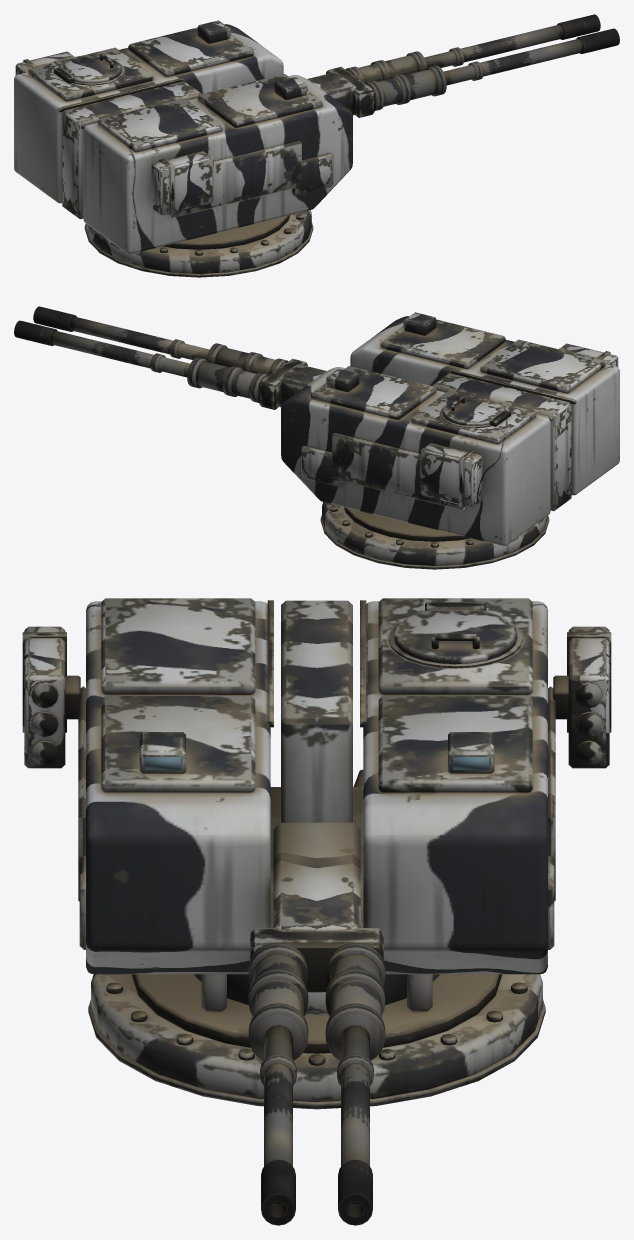
File: turret_kit_t1_arctic_tiger.glb
The picture shows the model from 3 angles, top to bottom: view 1: azimuth 30°, elevation 25°; view 2: azimuth 150°, elevation 25°; view 3: azimuth 270°, elevation 25°; orthographic projection. The views are drawn at different scales.
Visible parts, largest first — view 1: turret_twin_t1, guns, pods; view 2: turret_twin_t1, guns, pods; view 3: turret_twin_t1, guns, pods.
Boxes of the visible parts, left/top/right/bottom form: turret_twin_t1: left=14, top=20, right=352, bottom=277; guns: left=308, top=14, right=619, bottom=117; pods: left=15, top=51, right=213, bottom=215; turret_twin_t1: left=281, top=312, right=619, bottom=569; guns: left=14, top=306, right=325, bottom=409; pods: left=420, top=343, right=618, bottom=507; turret_twin_t1: left=78, top=598, right=555, bottom=1109; guns: left=248, top=822, right=385, bottom=1225; pods: left=22, top=626, right=611, bottom=768.
Size of the model in its own units: 2.41 by 0.695 by 1.15.
4 materials, 3 textured.
